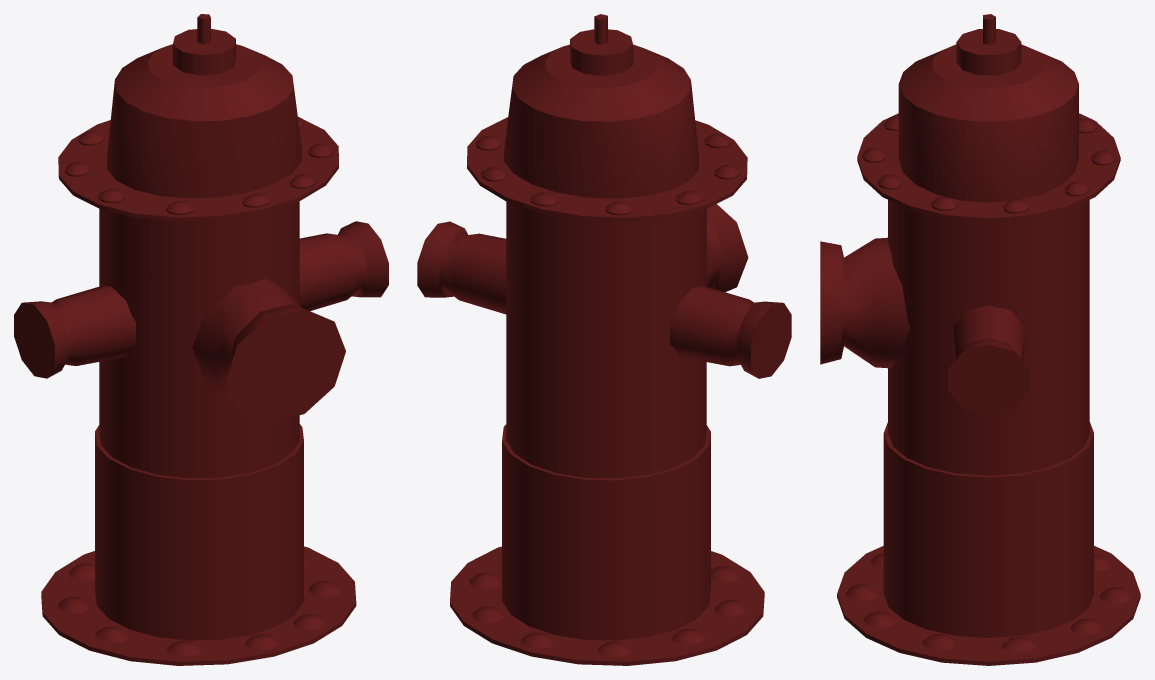
File: Hidrante2.fbx
3 views of the same model, side by side, from view 1: azimuth 30°, elevation 25°; view 2: azimuth 150°, elevation 25°; view 3: azimuth 270°, elevation 25° (orthographic).
Visible parts, largest first — view 1: polySurface3.001; view 2: polySurface3.001; view 3: polySurface3.001.
Boxes of the visible parts, x1,y1,x2,y2 form: polySurface3.001: (14,14,388,665); polySurface3.001: (417,14,791,665); polySurface3.001: (820,14,1140,665).
Size of the model in its own units: 570 by 952 by 473.
